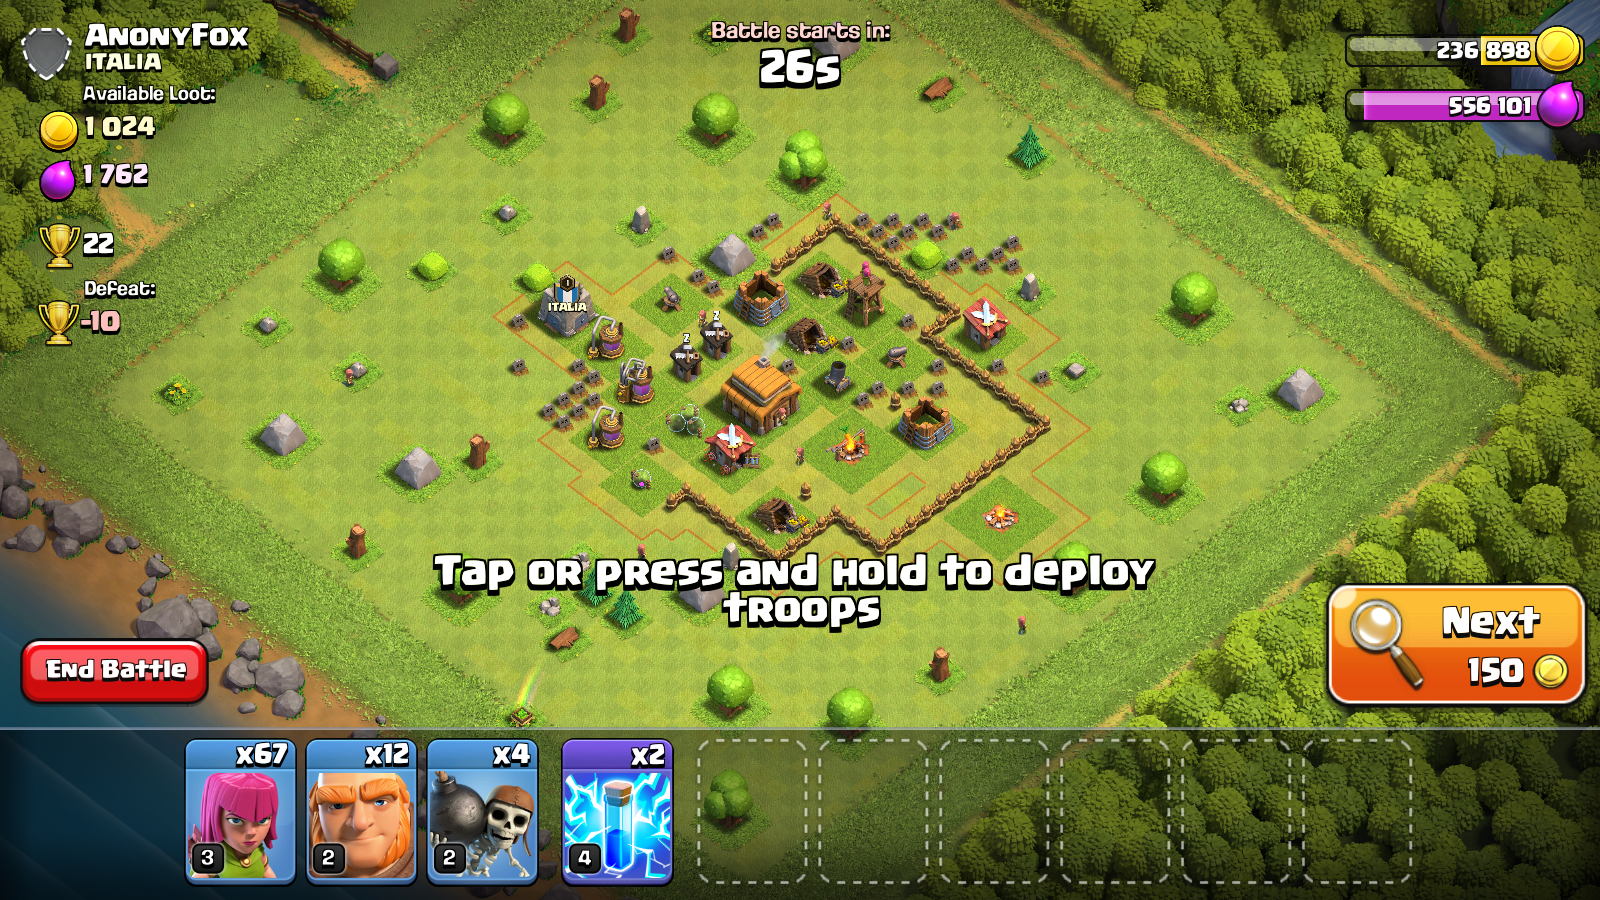end_battle: (25, 643, 208, 700)
loot_details: (1, 1, 268, 362)
next_searchbase: (1324, 582, 1584, 701)
troop_not_selected_message: (427, 554, 1165, 635)
